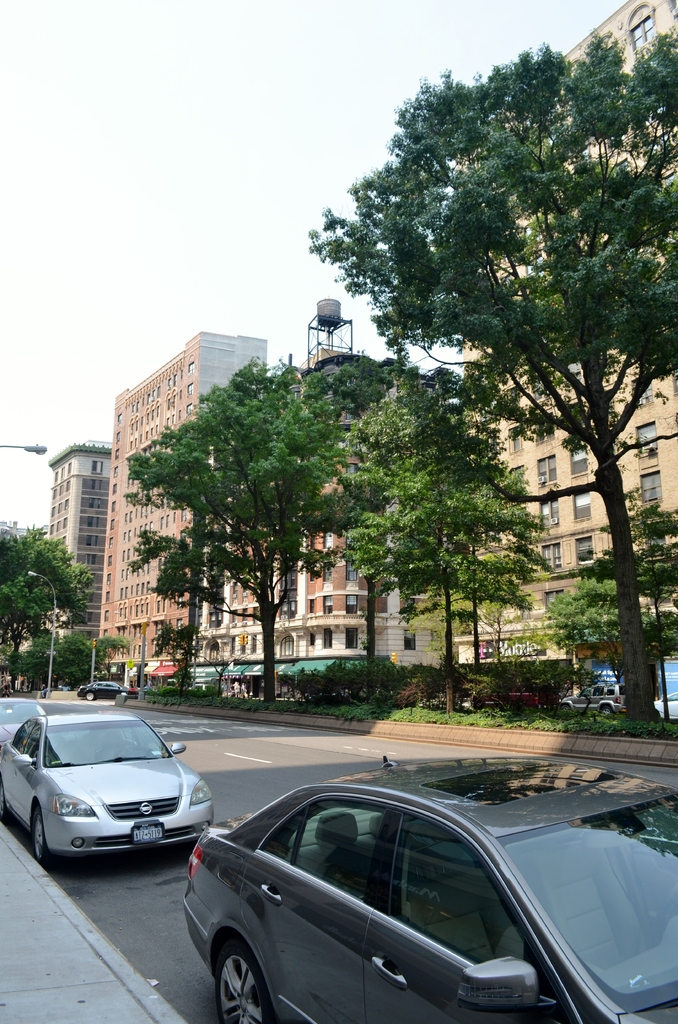Car: (160, 764, 669, 1024), (0, 702, 218, 876), (69, 674, 134, 700)
